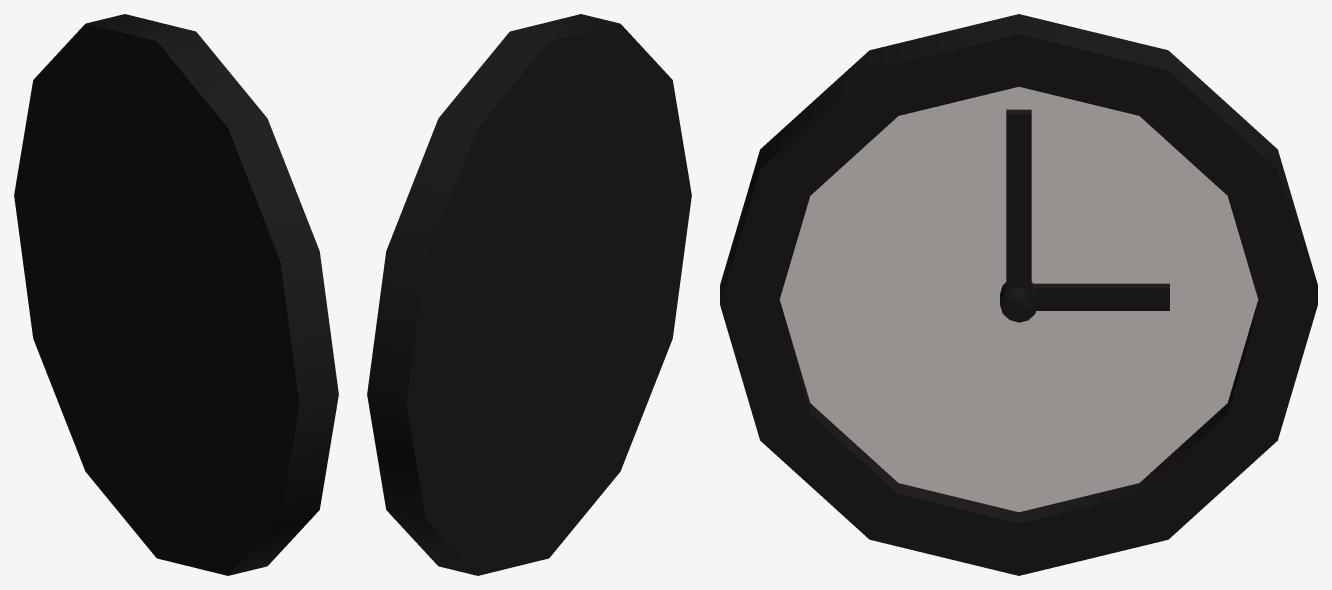
The model's file is Clock_Tower.fbx.
The picture shows the model from 3 angles, left to right: view 1: azimuth 30°, elevation 25°; view 2: azimuth 150°, elevation 25°; view 3: azimuth 270°, elevation 25°; orthographic projection. The views are drawn at different scales.
Visible parts, largest first — view 1: Clock; view 2: Clock; view 3: Clock, Minute, Hour.
Part boxes in pixels (x1,y1,x2,y2): Clock: (14,14,338,575); Clock: (367,14,691,575); Clock: (720,14,1317,575); Minute: (1006,109,1031,291); Hour: (1032,283,1169,310).
Bounding box in the file's own units: 585 × 47.97 × 585.
